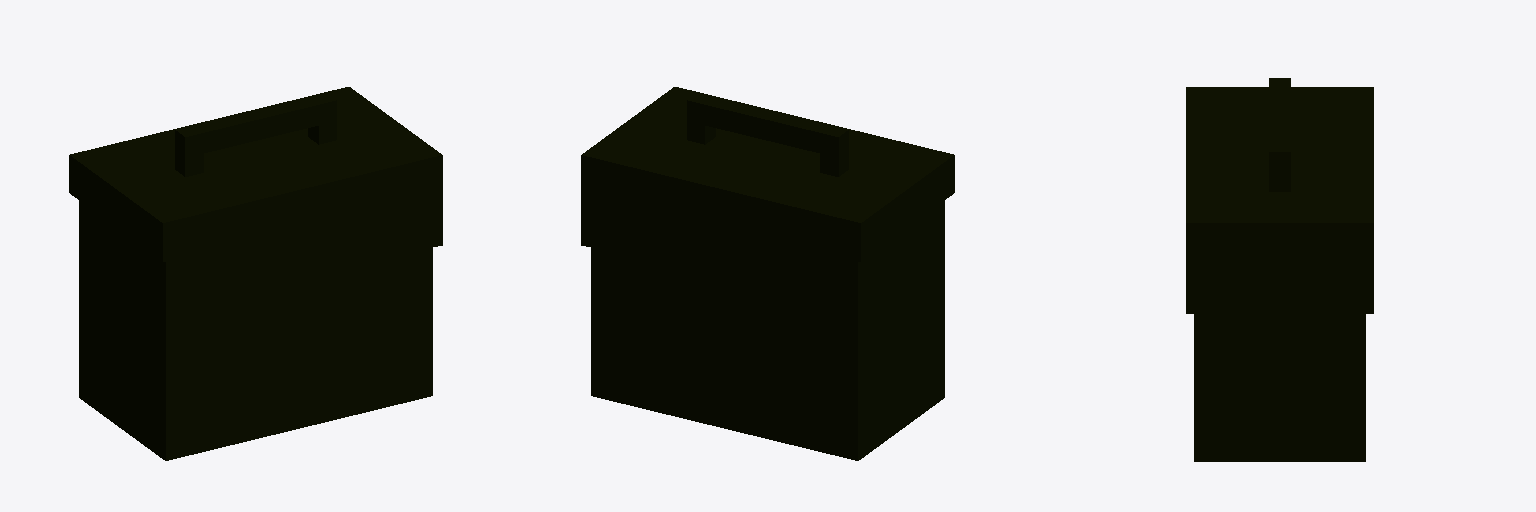
The model's file is Ammo_Box.obj.
The picture shows the model from 3 angles: view 1: azimuth 30°, elevation 25°; view 2: azimuth 150°, elevation 25°; view 3: azimuth 270°, elevation 25°; orthographic projection.
Visible parts, largest first — view 1: Ammo_Box_Cube.026; view 2: Ammo_Box_Cube.026; view 3: Ammo_Box_Cube.026.
Part boxes in pixels (x1,y1,x2,y2): Ammo_Box_Cube.026: (69,87,442,460); Ammo_Box_Cube.026: (581,87,954,460); Ammo_Box_Cube.026: (1186,78,1373,461).
Size of the model in its own units: 0.2101 by 0.2025 by 0.1217.